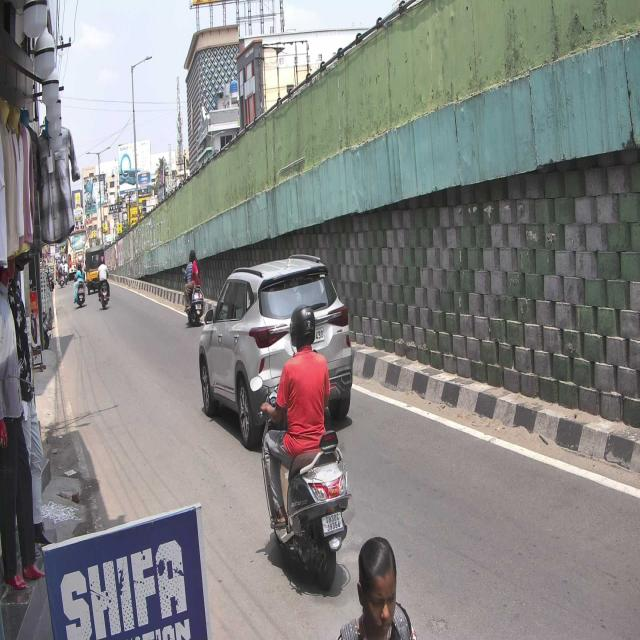single_rider: (261, 300, 351, 589)
